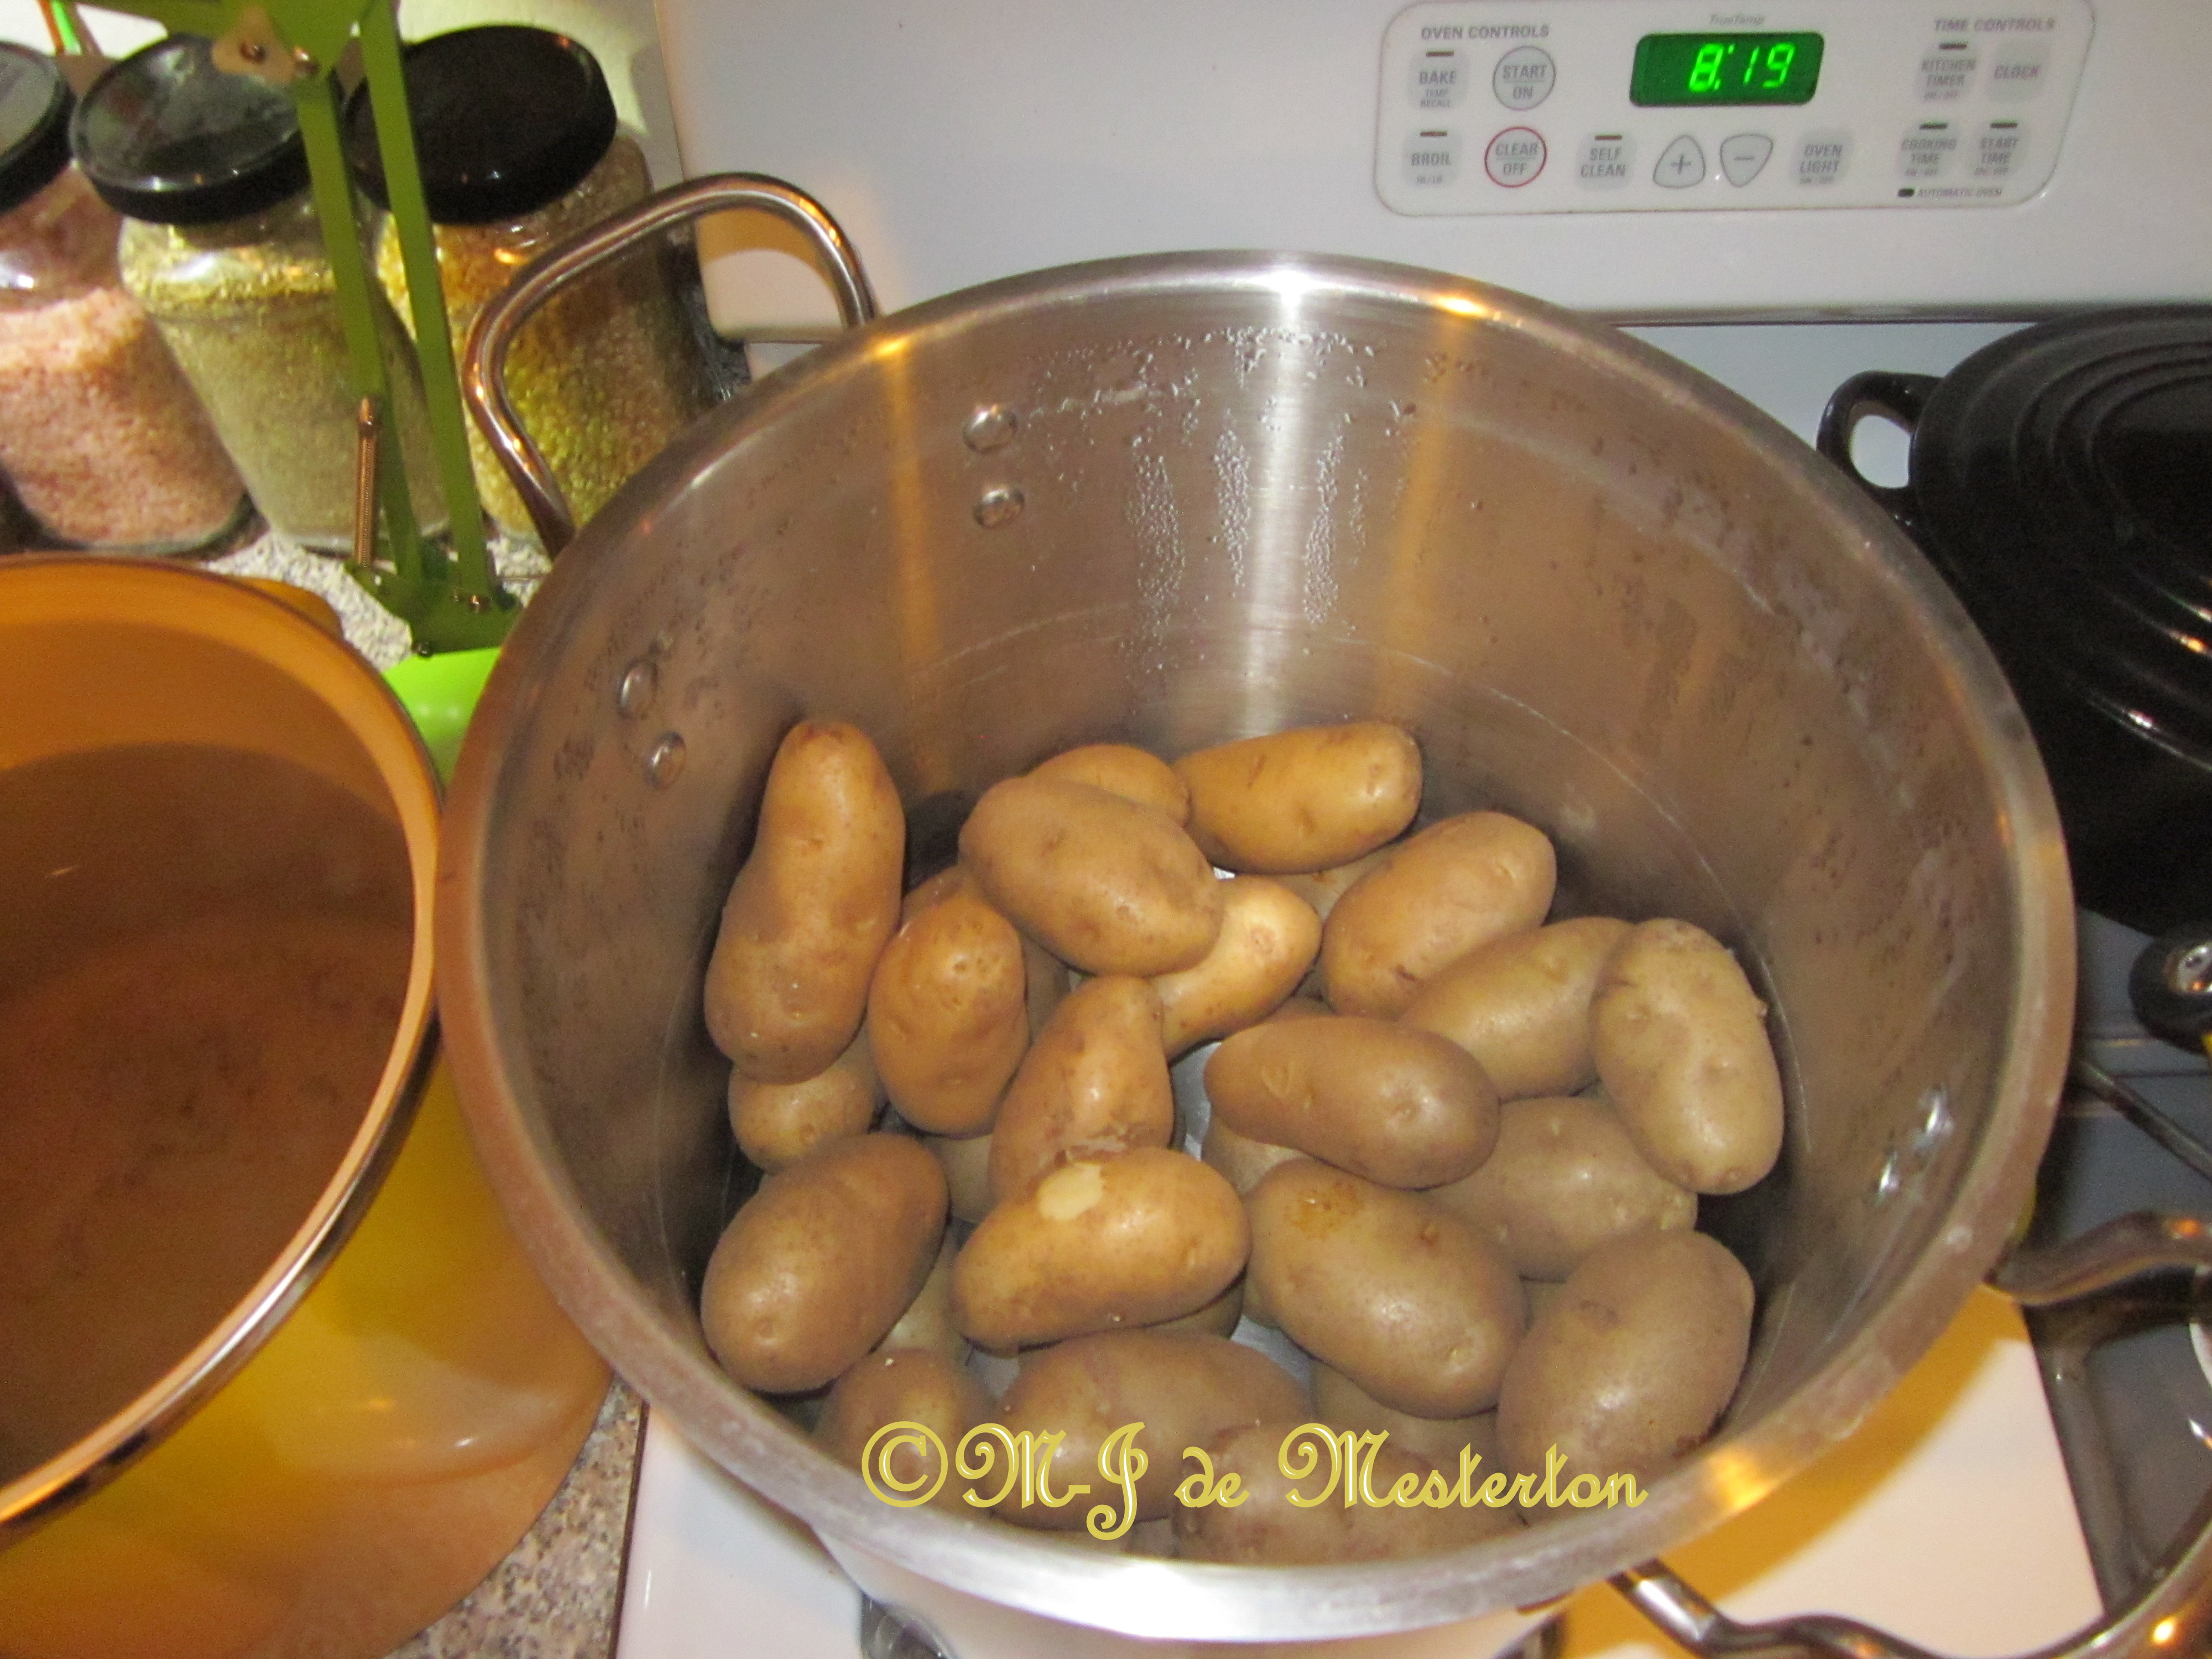boiled potatoes: (754, 767, 1716, 1495)
